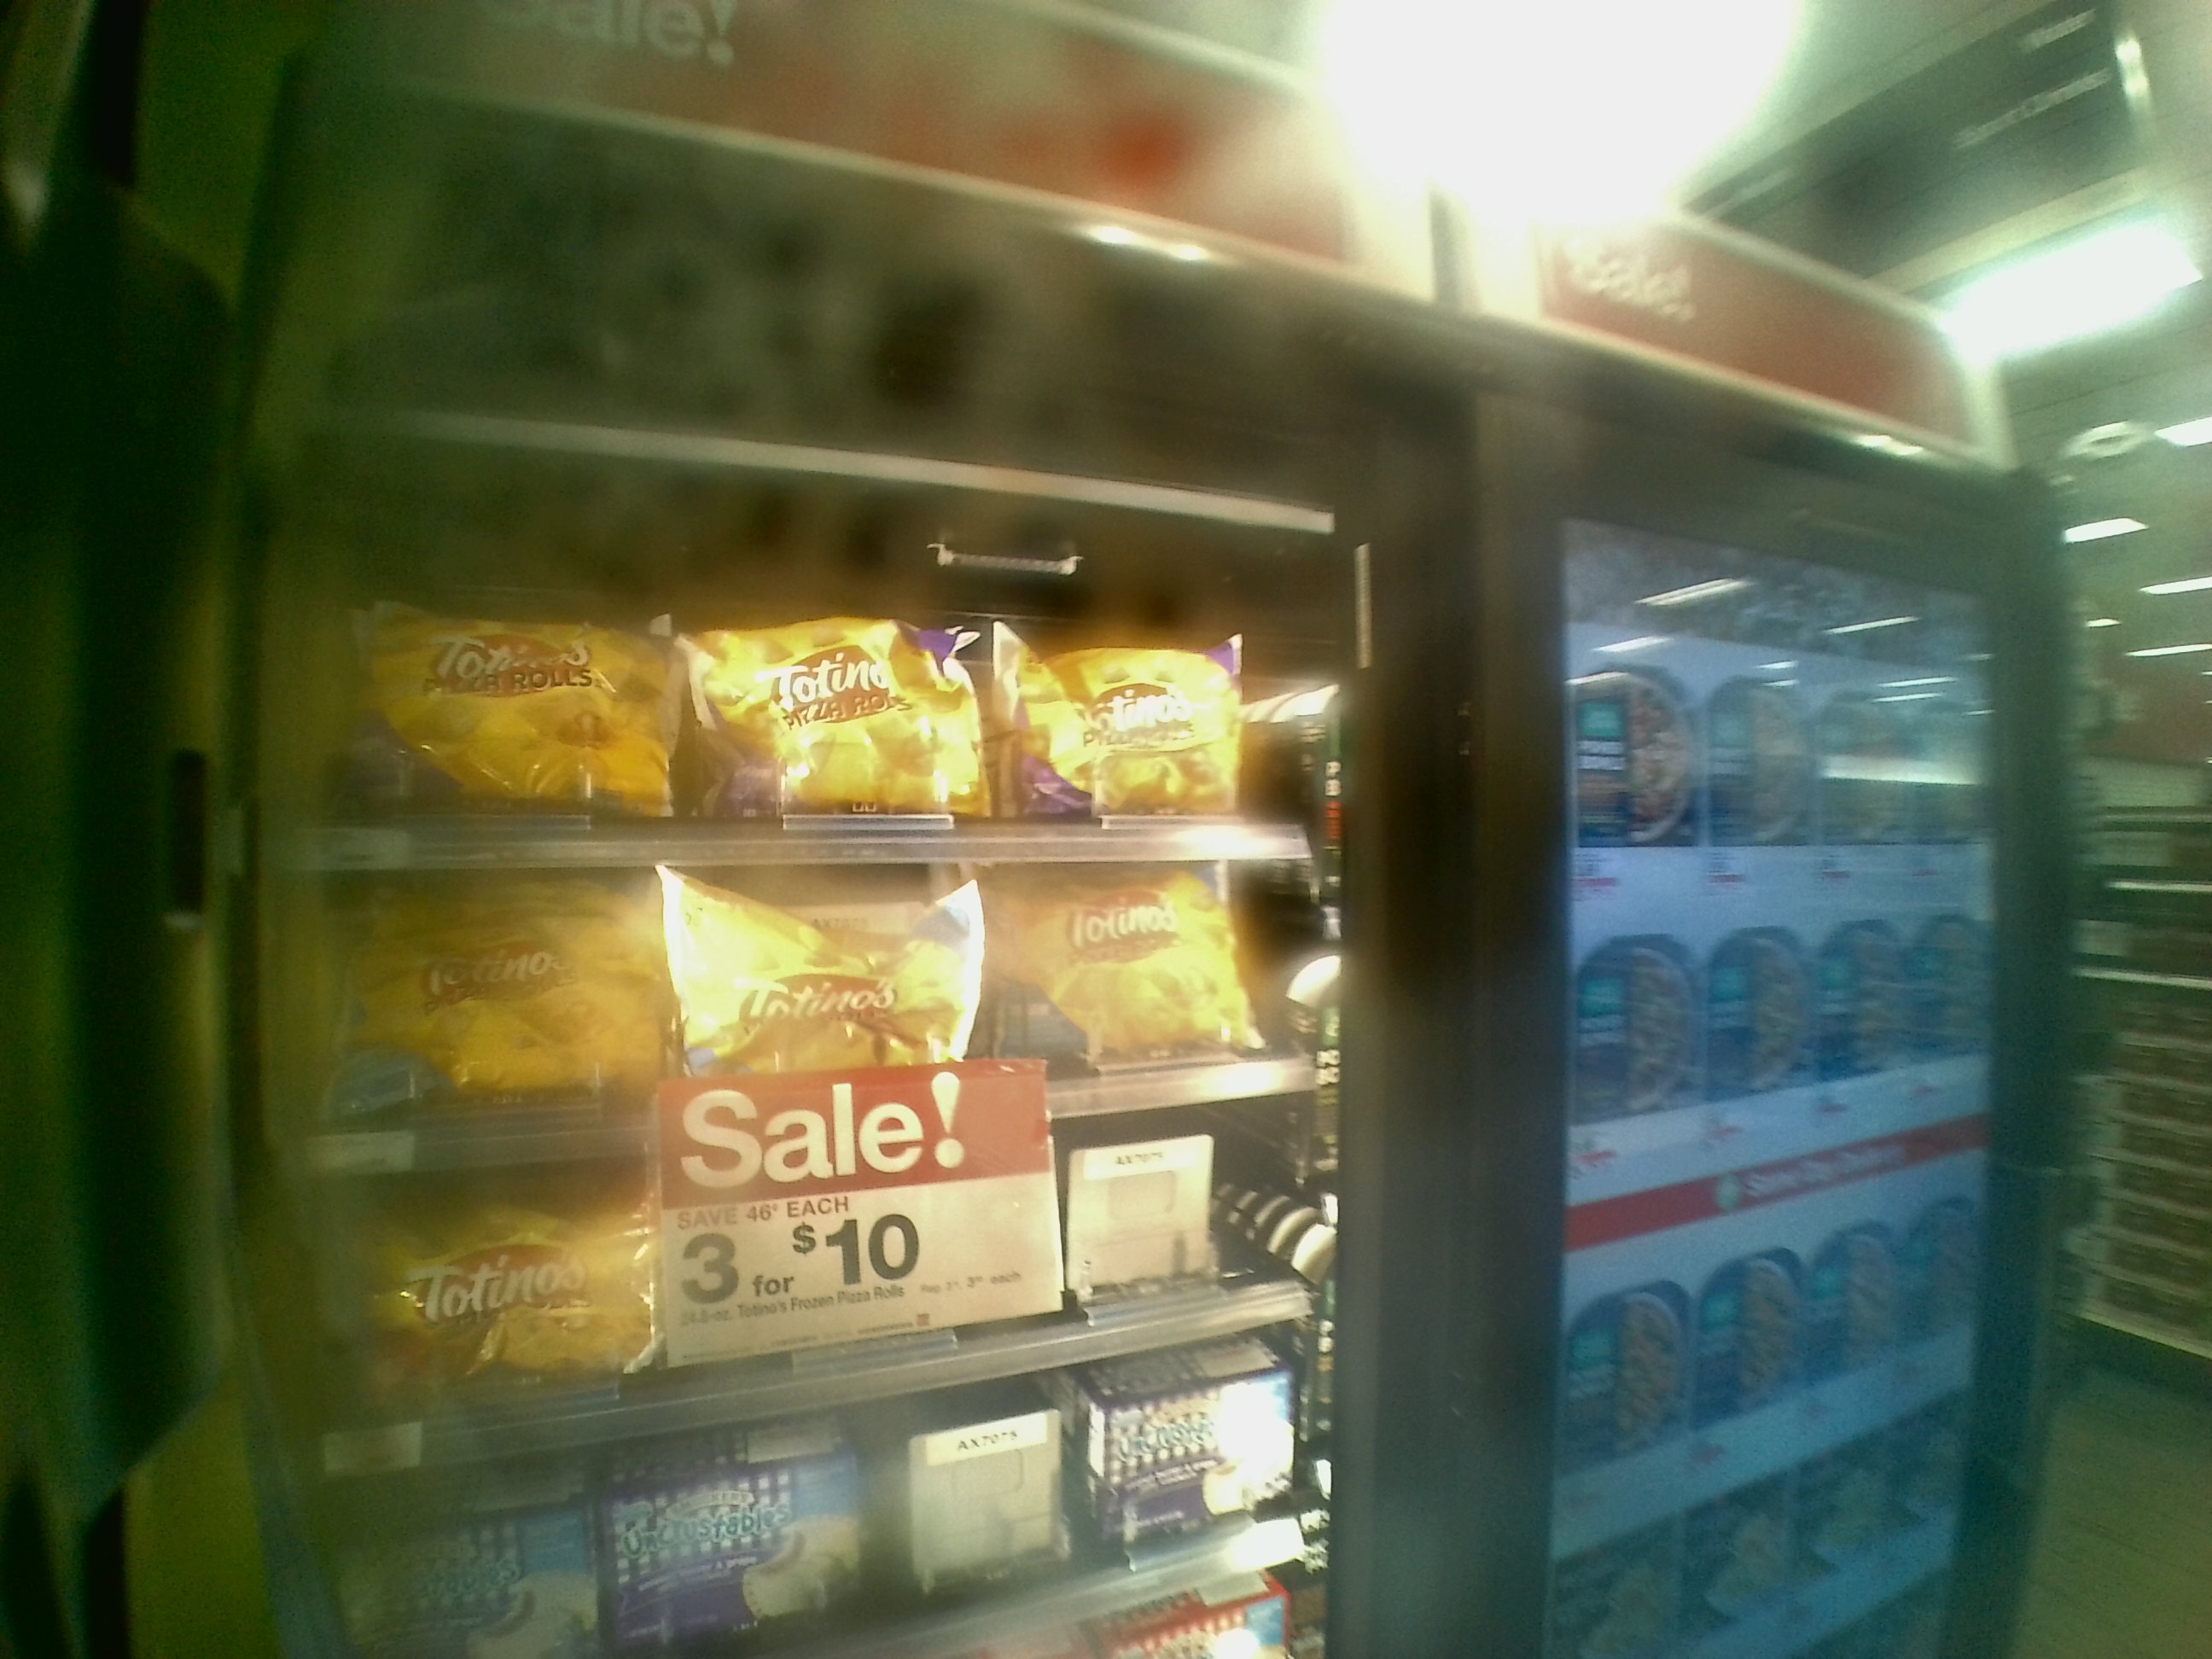shelf: (314, 434, 1325, 849), (298, 840, 1299, 1091), (284, 1124, 1315, 1337)
